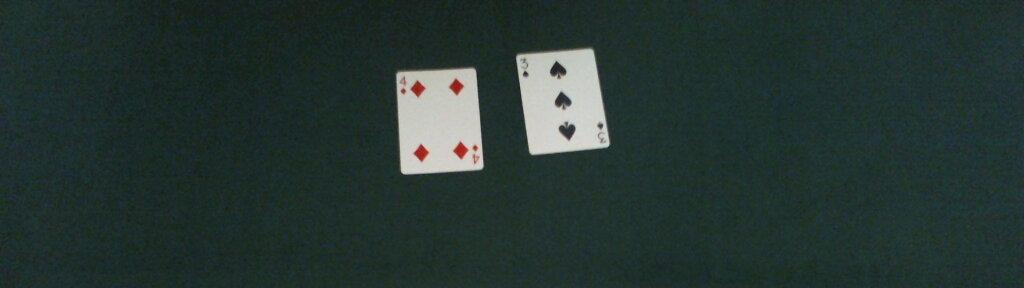four: (393, 66, 485, 176)
three: (514, 49, 611, 156)
